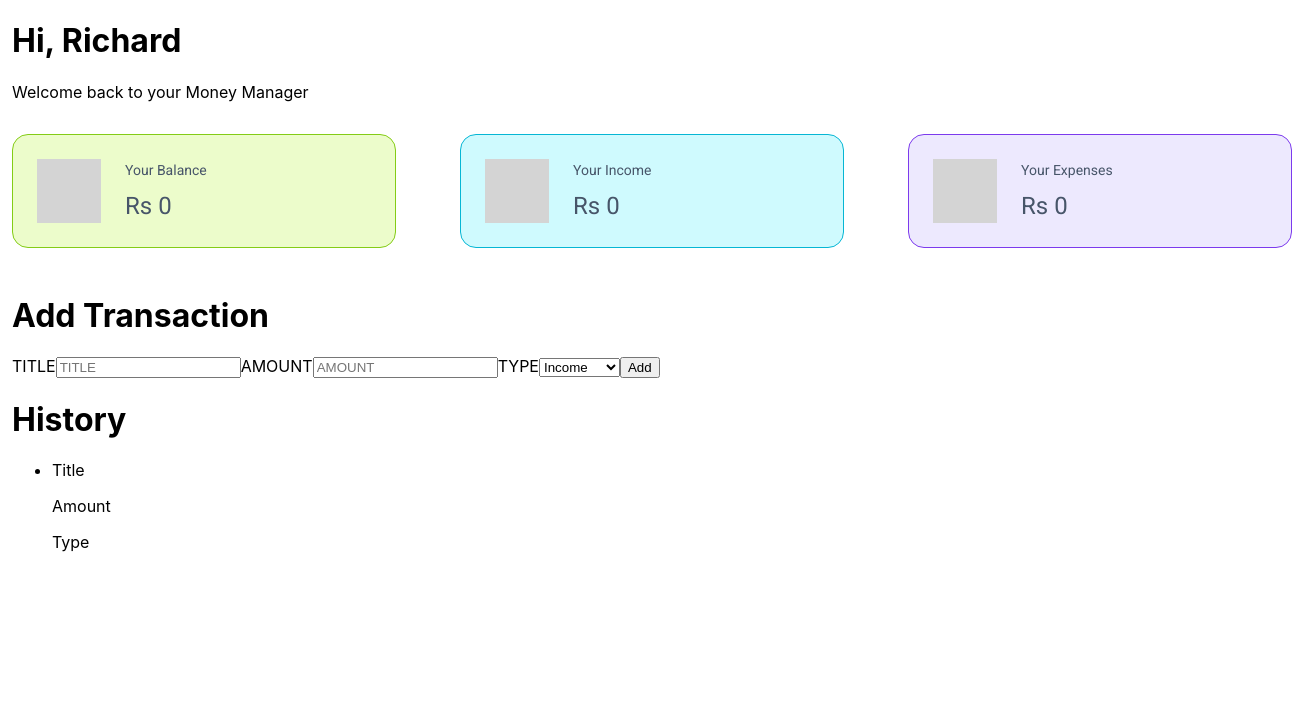
:::RJSCPIK4G2_TEST_SUITE_1:::Money Manager tests › :::RJSCPIK4G2_TEST_28:::When a transaction is added with "Income" as the type, the balance amount should be displayed accordingly:::5:::
In the field labelled "TITLE": (148, 368) [56,357,241,378], type "Salary"
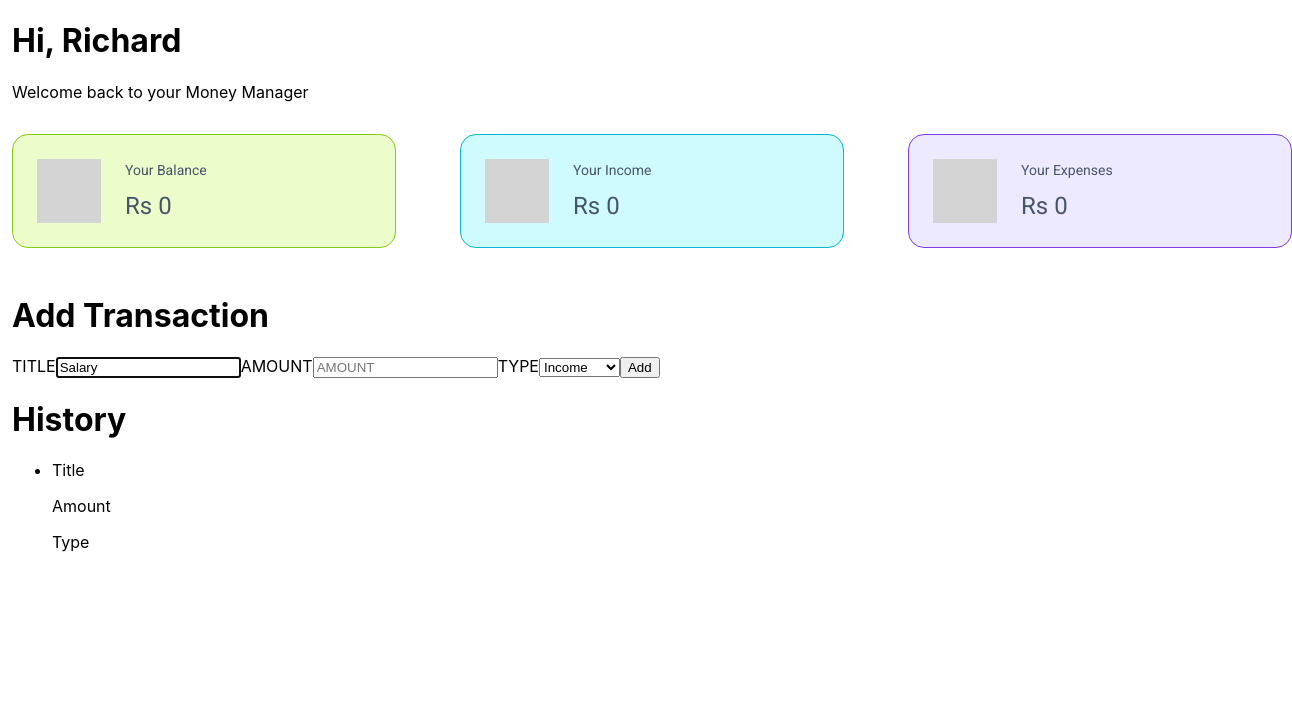
In the field labelled "AMOUNT": (405, 368) [313,357,498,378], type "25000"
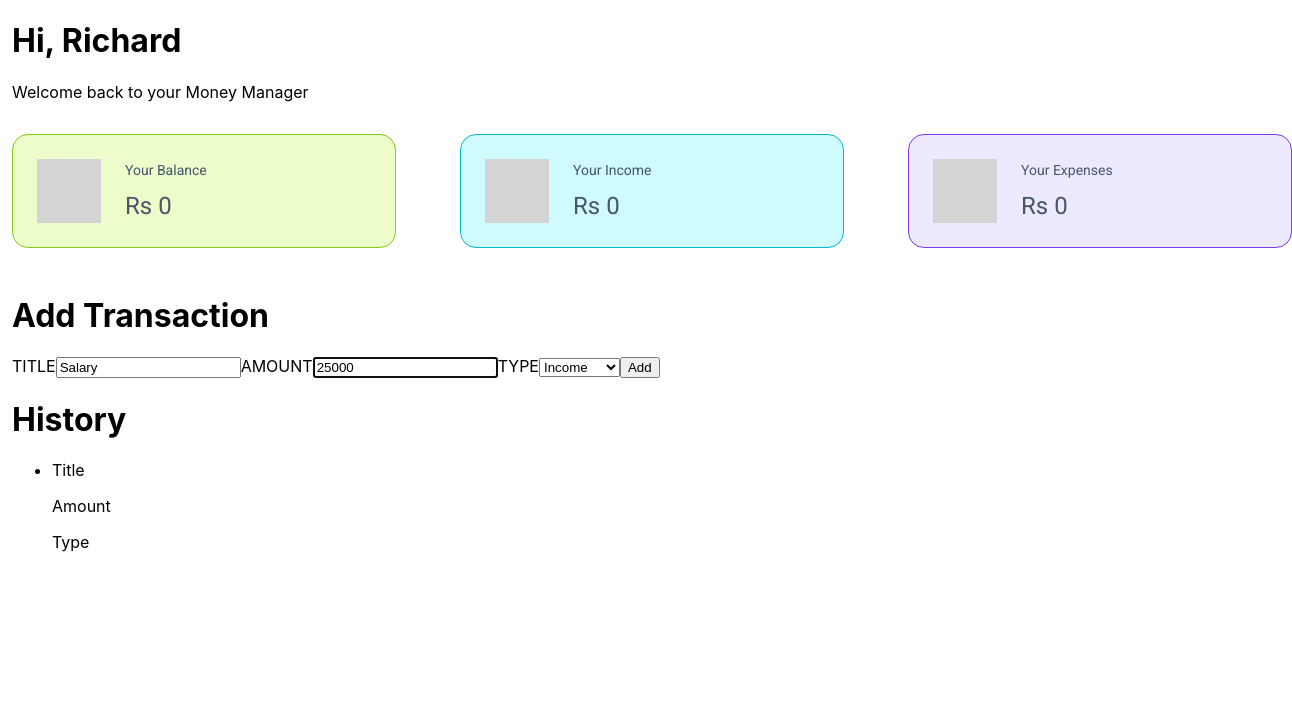
Select "Income" in the dropdown: (580, 368) [539,358,620,377]
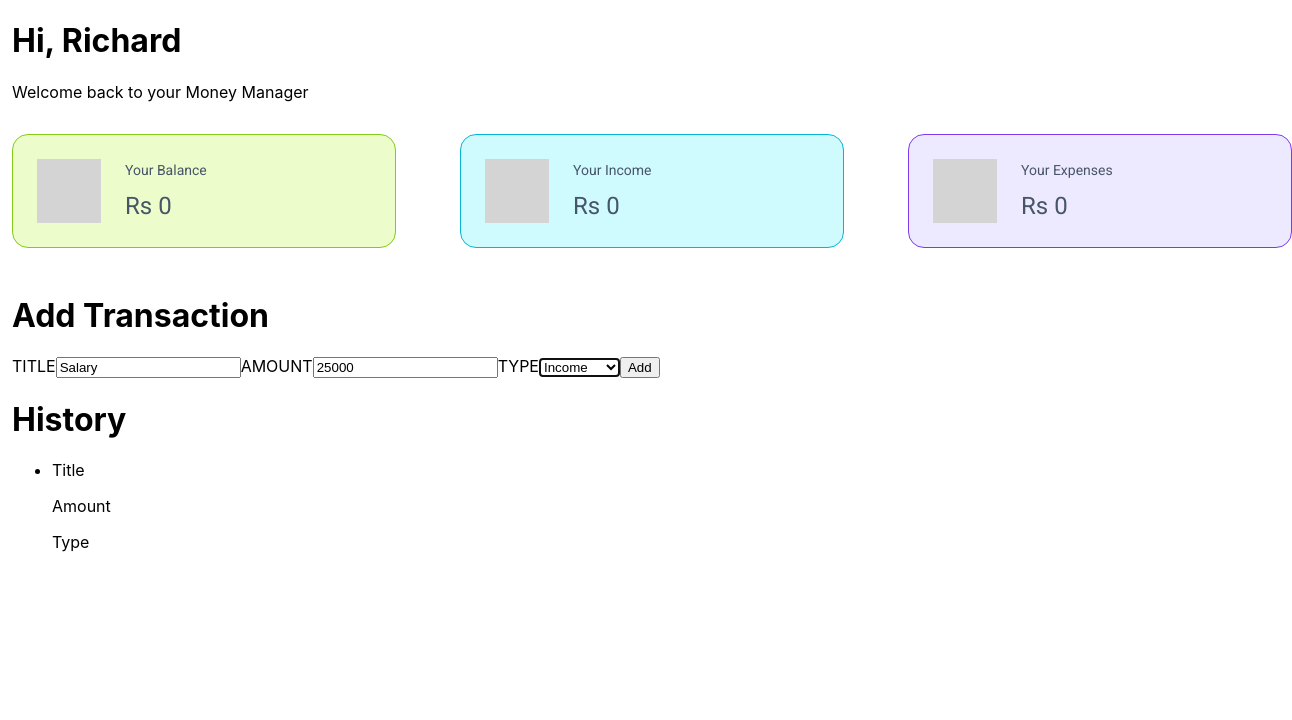
Click the button "Add": (640, 368) [620,357,660,378]
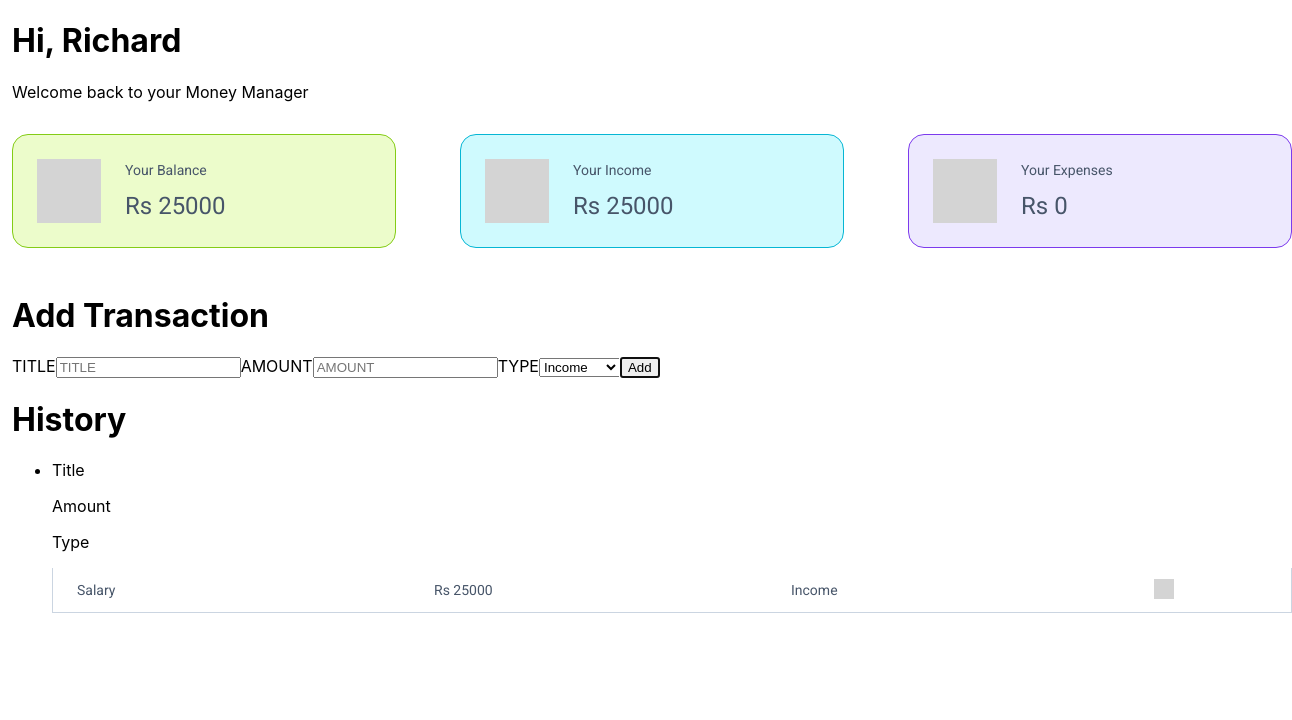
Expected: the text with test id "balanceAmount" shows "25000", [158,192,226,220]
